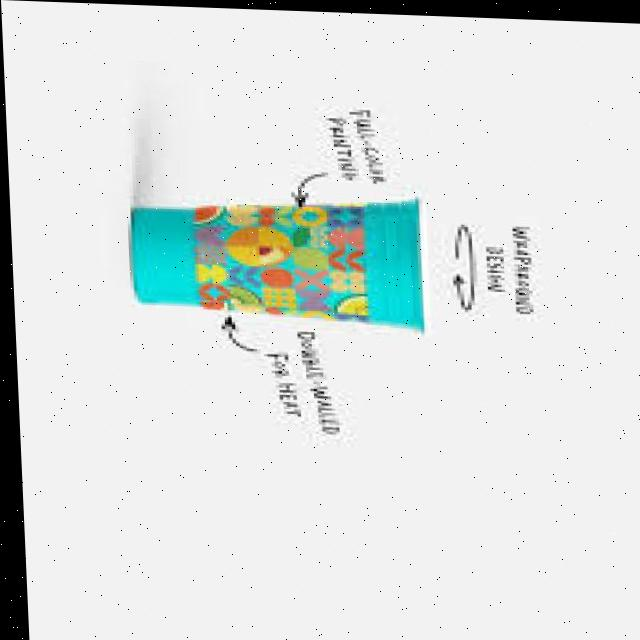cup: (99, 169, 470, 357)
